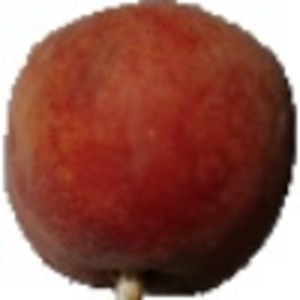pêssego: (3, 1, 298, 300)
